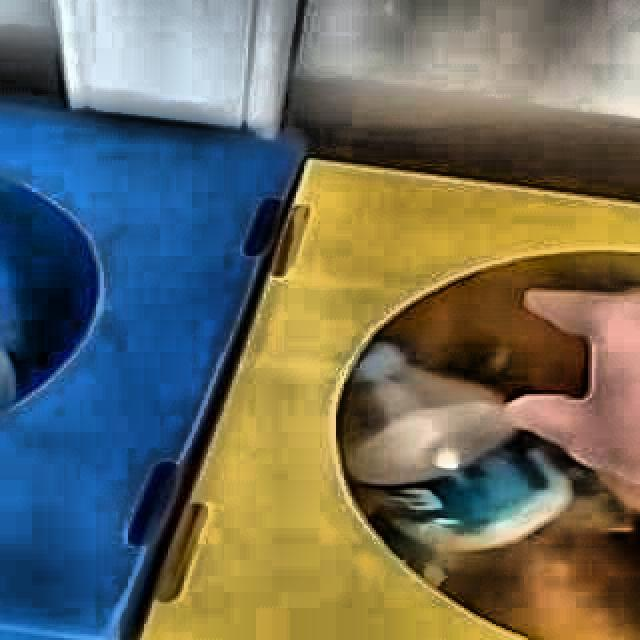plastic: (339, 340, 640, 640)
